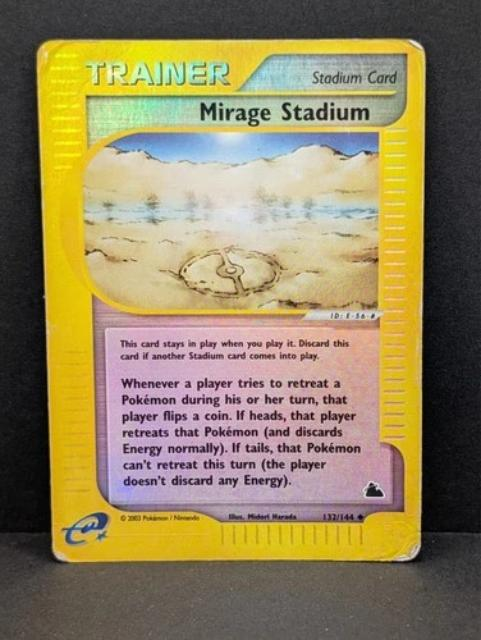Card: (27, 36, 431, 567)
Name: (191, 94, 377, 128)
